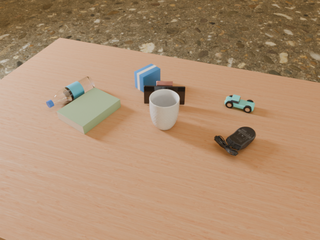book: (57, 87, 121, 134)
bottle: (46, 77, 95, 108)
box: (134, 64, 160, 92)
cup: (149, 89, 180, 130)
mouse: (214, 127, 256, 156)
phone: (144, 85, 185, 105)
toy_car: (224, 95, 255, 113)
